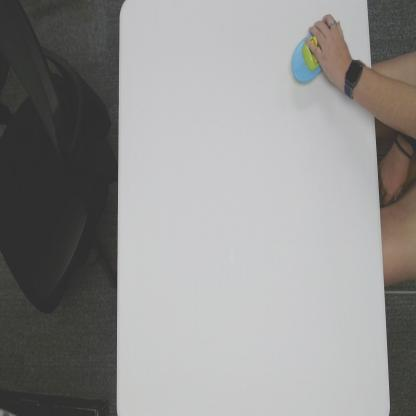Boat: (291, 13, 336, 85)
Hand: (305, 12, 346, 84)
